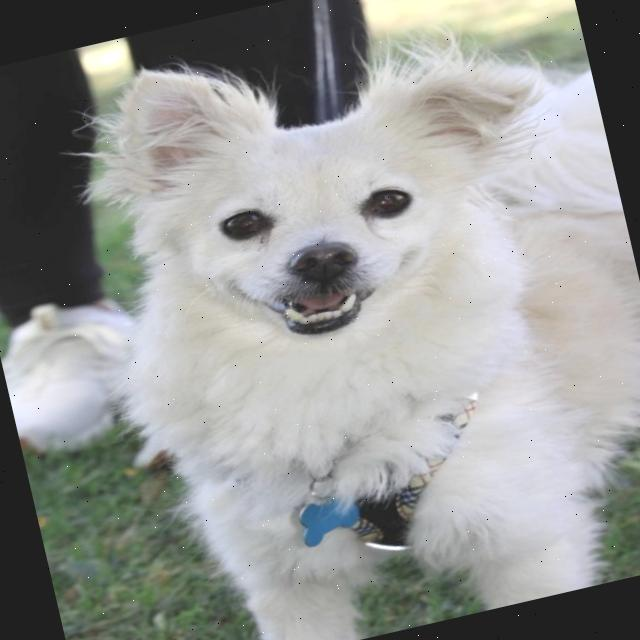pomeranian_dog: (57, 0, 608, 417)
